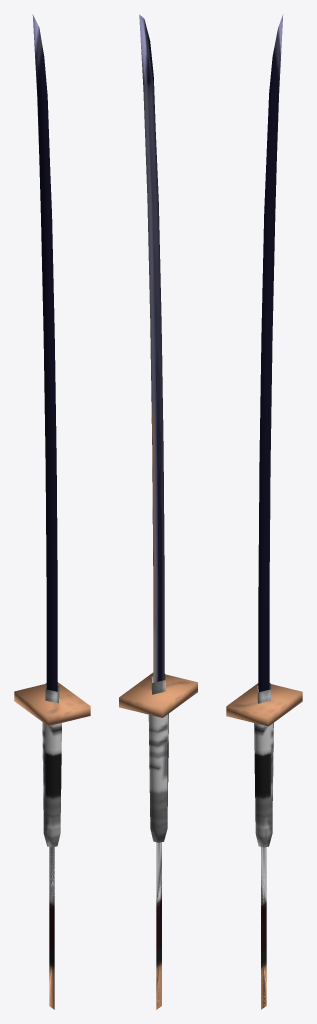
Rendered from bankaizangetsu.obj.
3 renders of one model, left to right at view 1: azimuth 30°, elevation 25°; view 2: azimuth 150°, elevation 25°; view 3: azimuth 330°, elevation 25°, orthographic. The views are drawn at different scales.
Parts seen in each view (by area): view 1: bankaizangetsu; view 2: bankaizangetsu; view 3: bankaizangetsu.
Boxes of the visible parts, x1,y1,x2,y2 form: bankaizangetsu: (14,14,90,1009); bankaizangetsu: (119,14,197,1009); bankaizangetsu: (226,14,302,1009).
Bounding box in the file's own units: 0.0831 × 1.84 × 0.1234.
